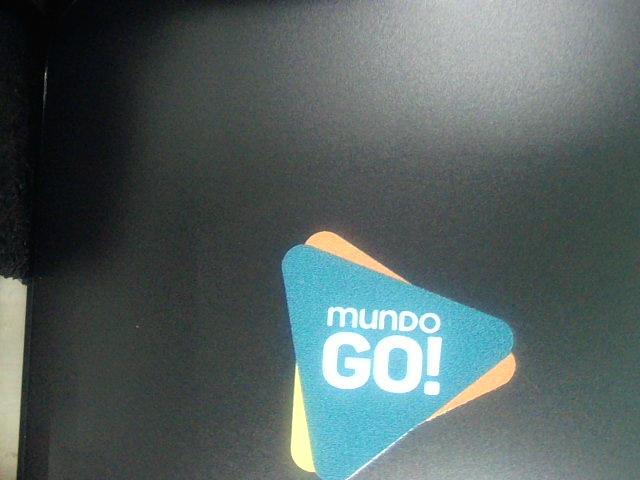AP_IPGMundoGO: (247, 227, 541, 478)
